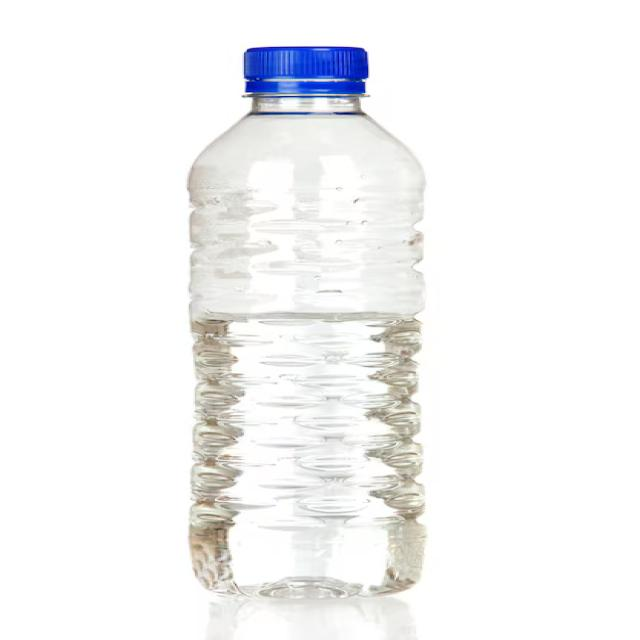Bottle: (174, 35, 448, 606)
